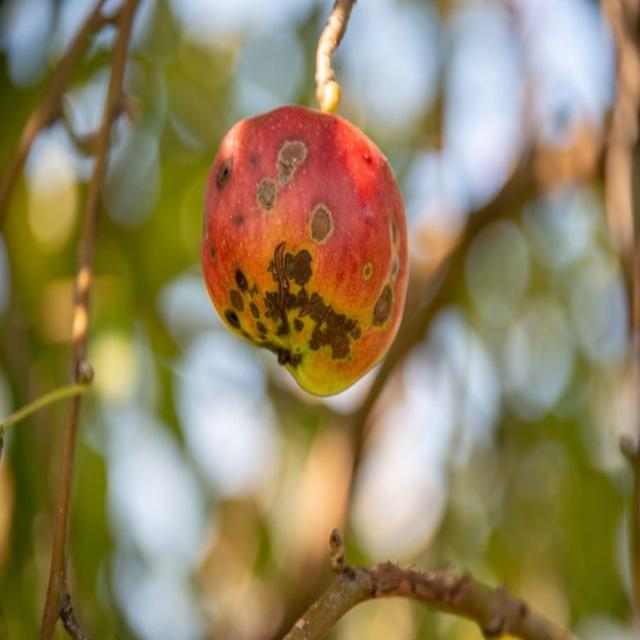Rotten Apple: (176, 89, 413, 402)
